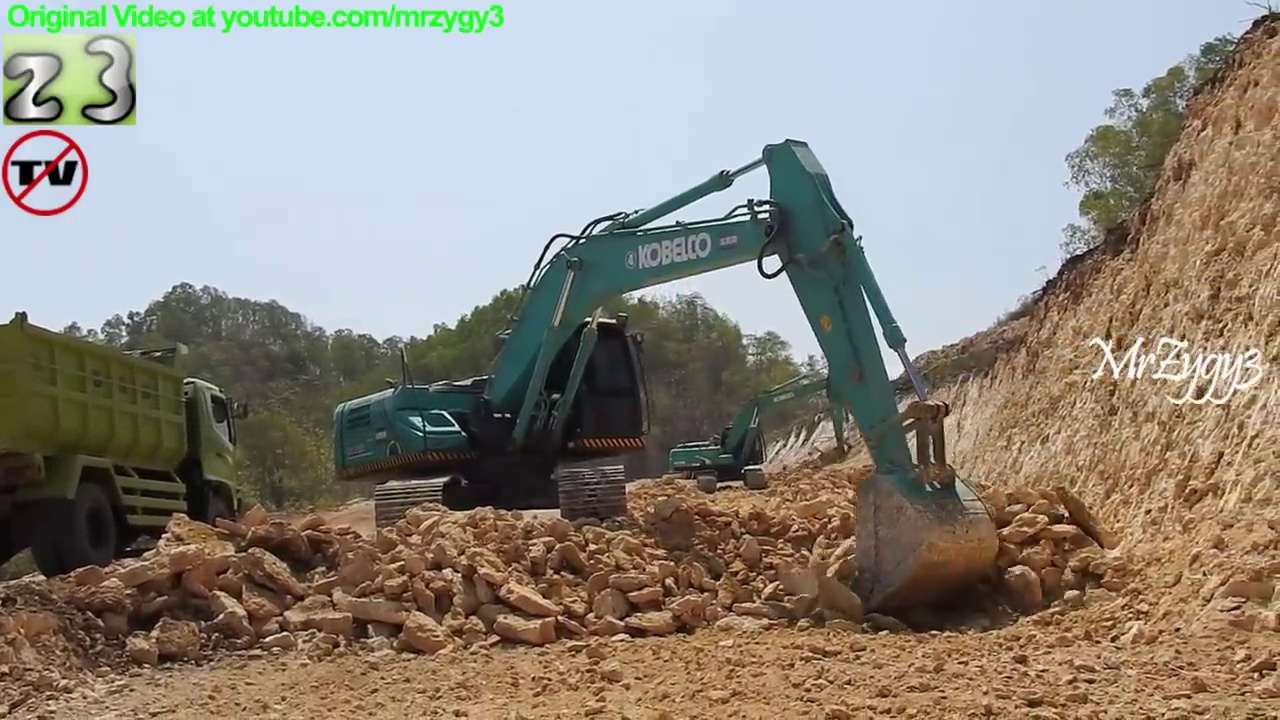excavator: (327, 134, 1006, 637), (665, 362, 854, 498)
truck: (1, 308, 253, 588)
